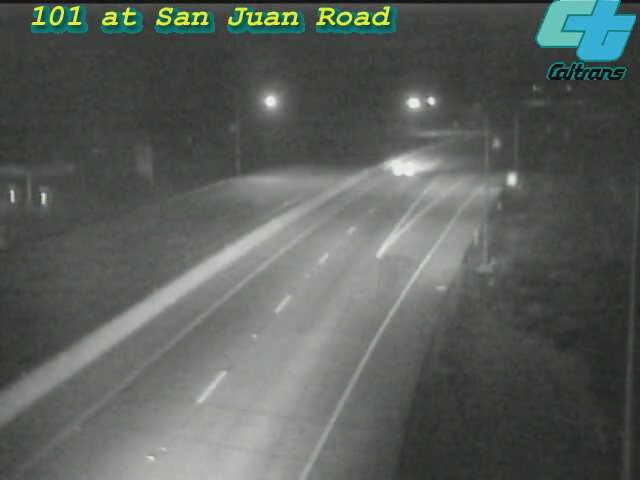vehicle: (366, 128, 446, 208)
